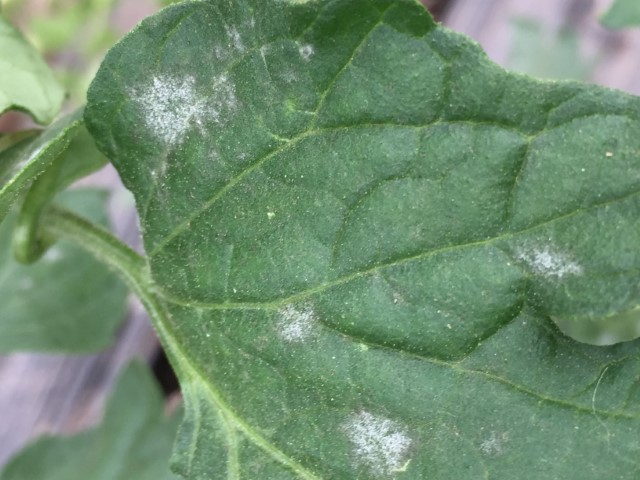oidio: (126, 70, 237, 145), (342, 410, 417, 475), (512, 237, 586, 282), (213, 11, 257, 63), (275, 300, 318, 343), (478, 431, 504, 459), (292, 40, 315, 61), (259, 41, 272, 72)
